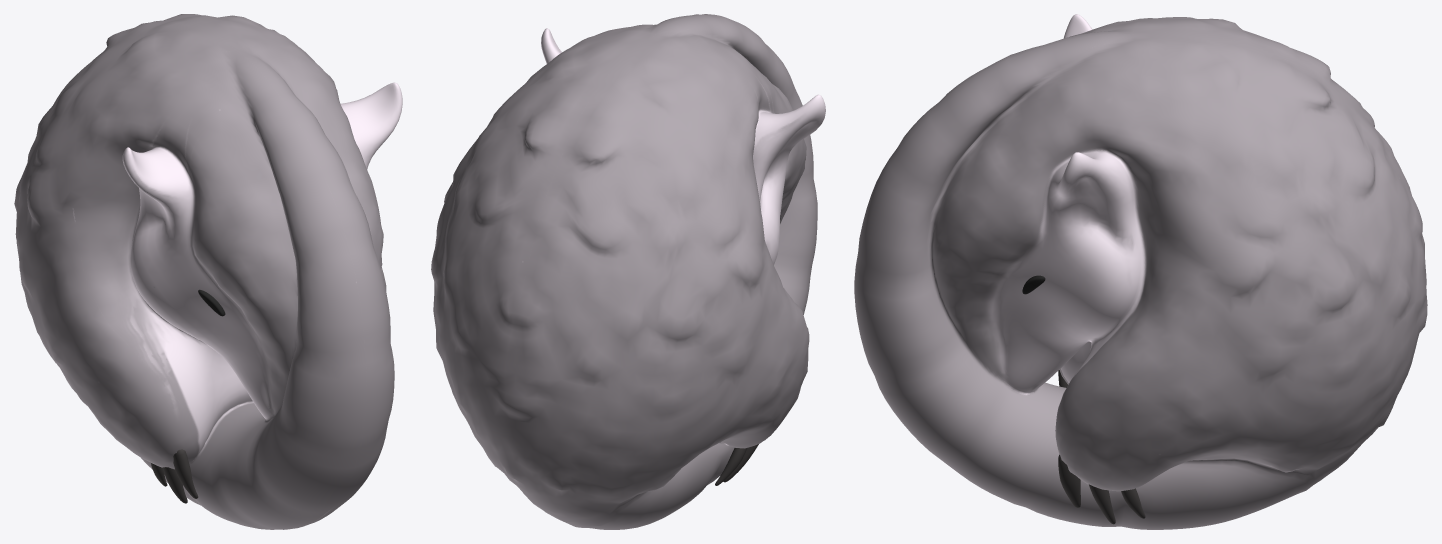
The model's file is PGJ_Piche_FINAL.glb.
3 renders of one model, left to right at view 1: azimuth 30°, elevation 25°; view 2: azimuth 150°, elevation 25°; view 3: azimuth 270°, elevation 25°, orthographic. The views are drawn at different scales.
Parts seen in each view (by area): view 1: PicheBody-LOW.001, GARRAS; view 2: PicheBody-LOW.001, GARRAS; view 3: PicheBody-LOW.001, GARRAS.
Boxes of the visible parts, left/top/right/bottom form: PicheBody-LOW.001: left=14, top=14, right=402, bottom=529; GARRAS: left=151, top=449, right=198, bottom=503; PicheBody-LOW.001: left=431, top=14, right=825, bottom=529; GARRAS: left=715, top=444, right=758, bottom=485; PicheBody-LOW.001: left=854, top=14, right=1427, bottom=529; GARRAS: left=1058, top=370, right=1145, bottom=524.
Size of the model in its own units: 0.5366 by 0.7698 by 0.8147.
3 materials, 1 textured.
